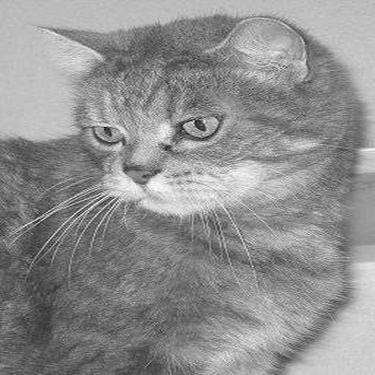cat: (3, 5, 374, 371)
